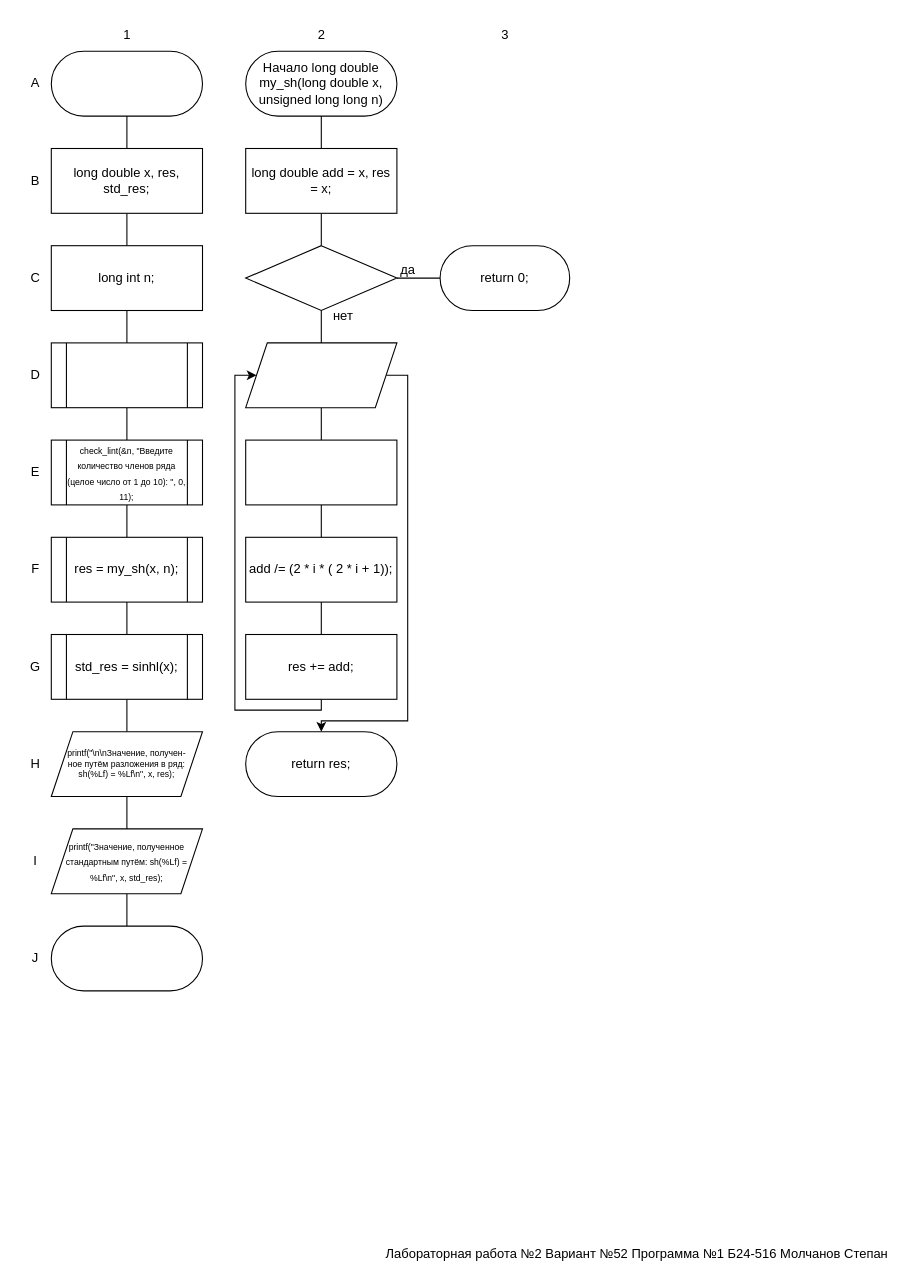
Some shapes in this 919 by 1288 pixel diagram are drawn without their labels. Each missing label, with the centre of its shape:
add *= (x * x);: point (321, 472)
check_ldouble(&x, "Введите любое число: ");: point (126, 375)
int i = 1; i < n; i ++: point (321, 375)
n == 0: point (321, 277)
Конец: point (126, 958)
Начало: point (126, 83)
